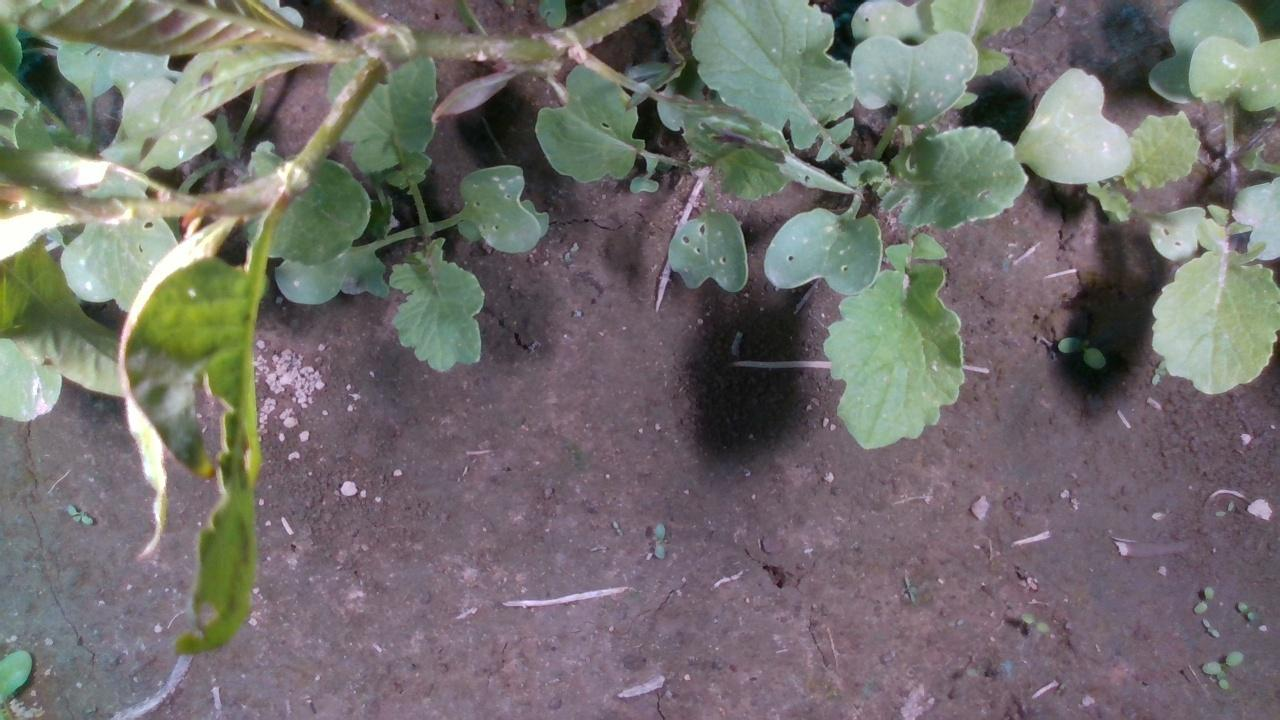weed: (1052, 333, 1108, 369), (647, 520, 671, 559), (61, 503, 96, 526), (1190, 585, 1215, 614), (1199, 616, 1222, 638)
